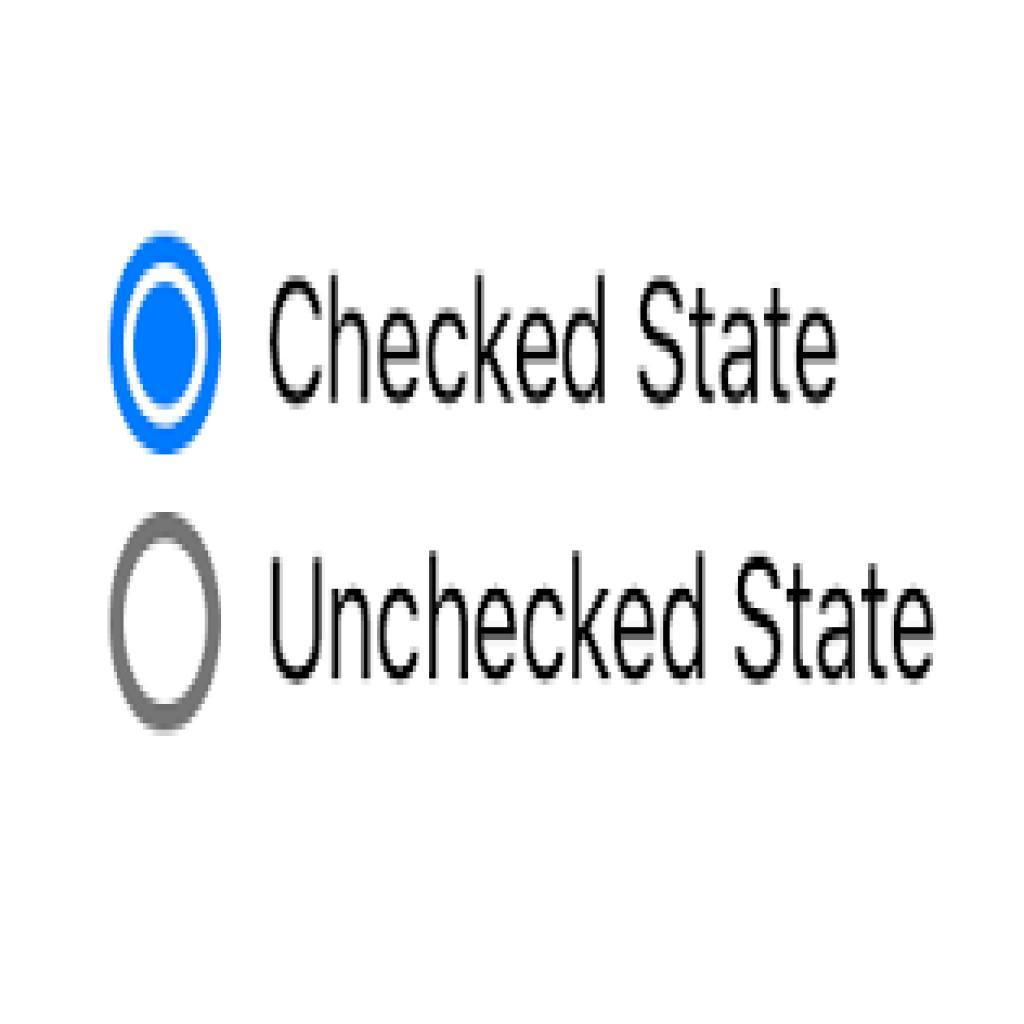label: (257, 542, 942, 691), (264, 262, 848, 415)
radio: (103, 509, 224, 740), (107, 228, 223, 458)
